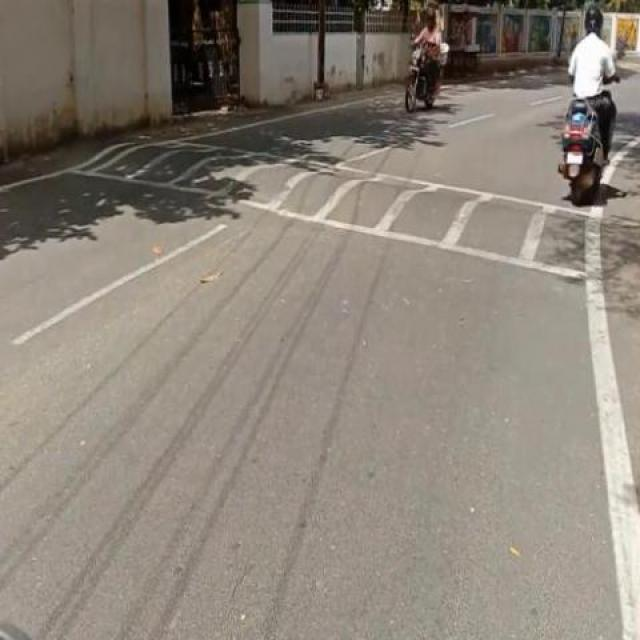Speed Bump: (83, 143, 558, 269), (556, 208, 639, 294)
